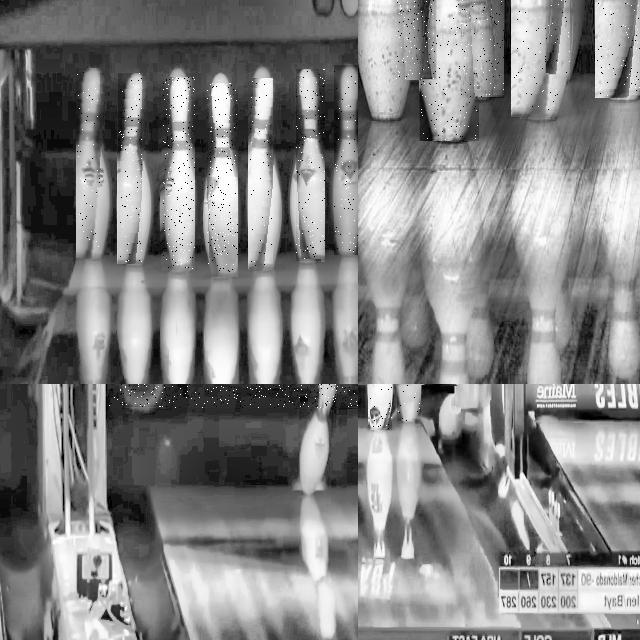bowling-pins: (421, 0, 479, 140), (207, 83, 238, 276), (163, 78, 194, 269), (296, 70, 325, 260), (513, 0, 558, 116), (334, 65, 358, 255), (77, 68, 100, 258), (119, 74, 141, 263), (250, 79, 272, 268), (597, 0, 639, 96), (485, 0, 504, 98), (369, 384, 392, 429), (397, 384, 421, 421)
